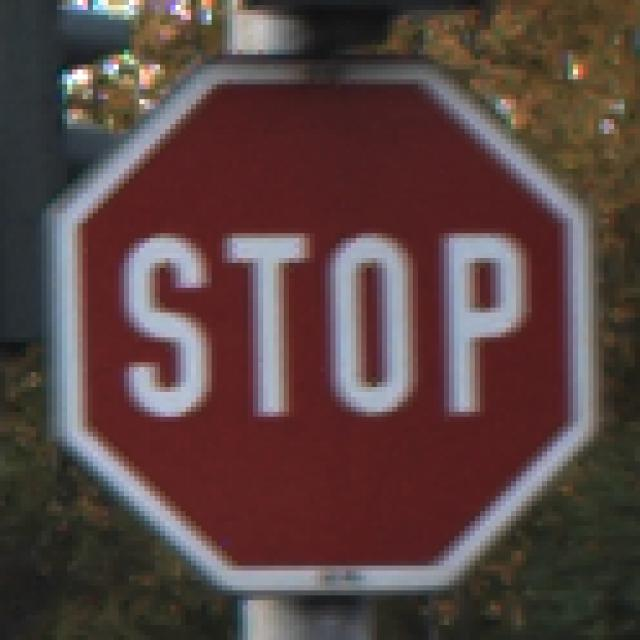STOP: (58, 61, 584, 587)
